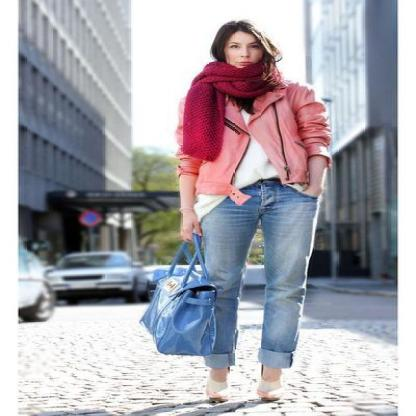bag: (138, 262, 216, 356)
jacket: (174, 75, 332, 204)
pants: (187, 177, 334, 371)
shirt: (195, 142, 288, 218)
shoe: (193, 377, 285, 407)
